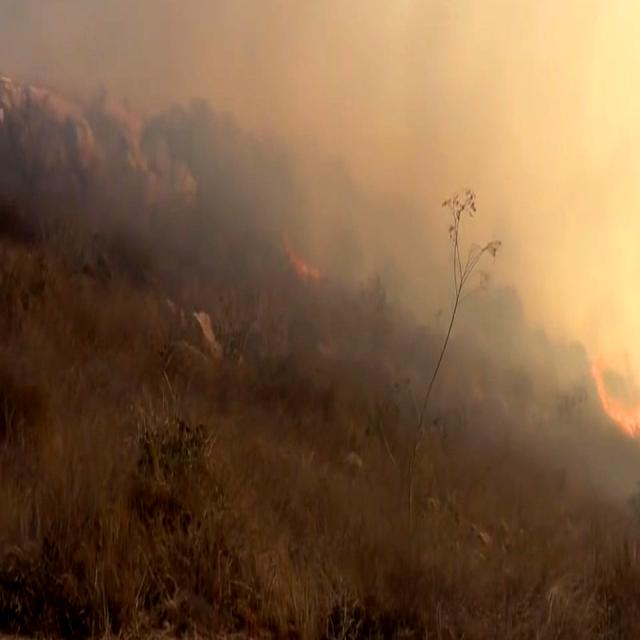fire: (591, 344, 640, 464)
smoke: (268, 0, 630, 78)
